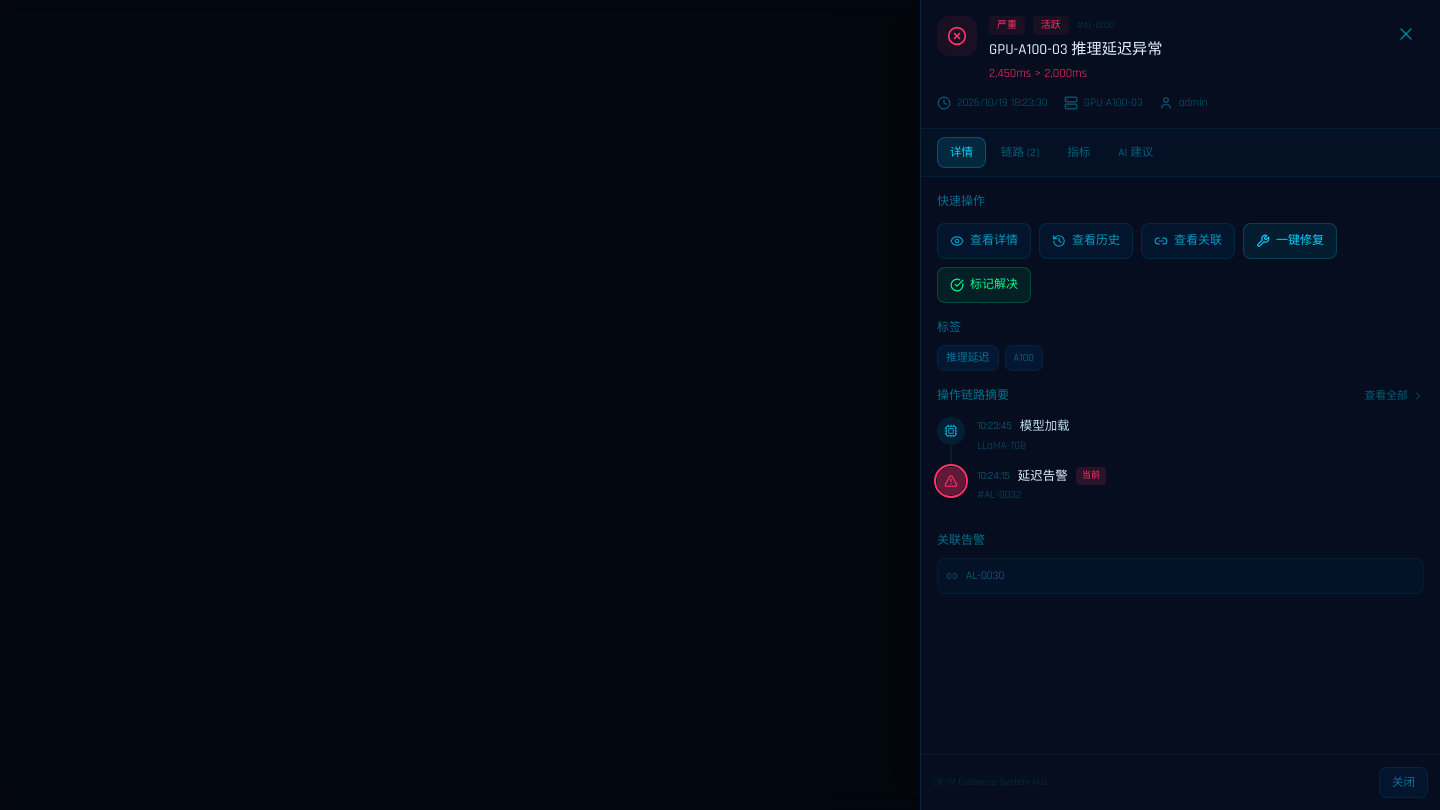
Test case: FollowUpDrawer › Tab 栏 › 切换到指标 tab 应显示关联指标
Click the button "指标" at (1079, 152), box [1054,137,1103,168]
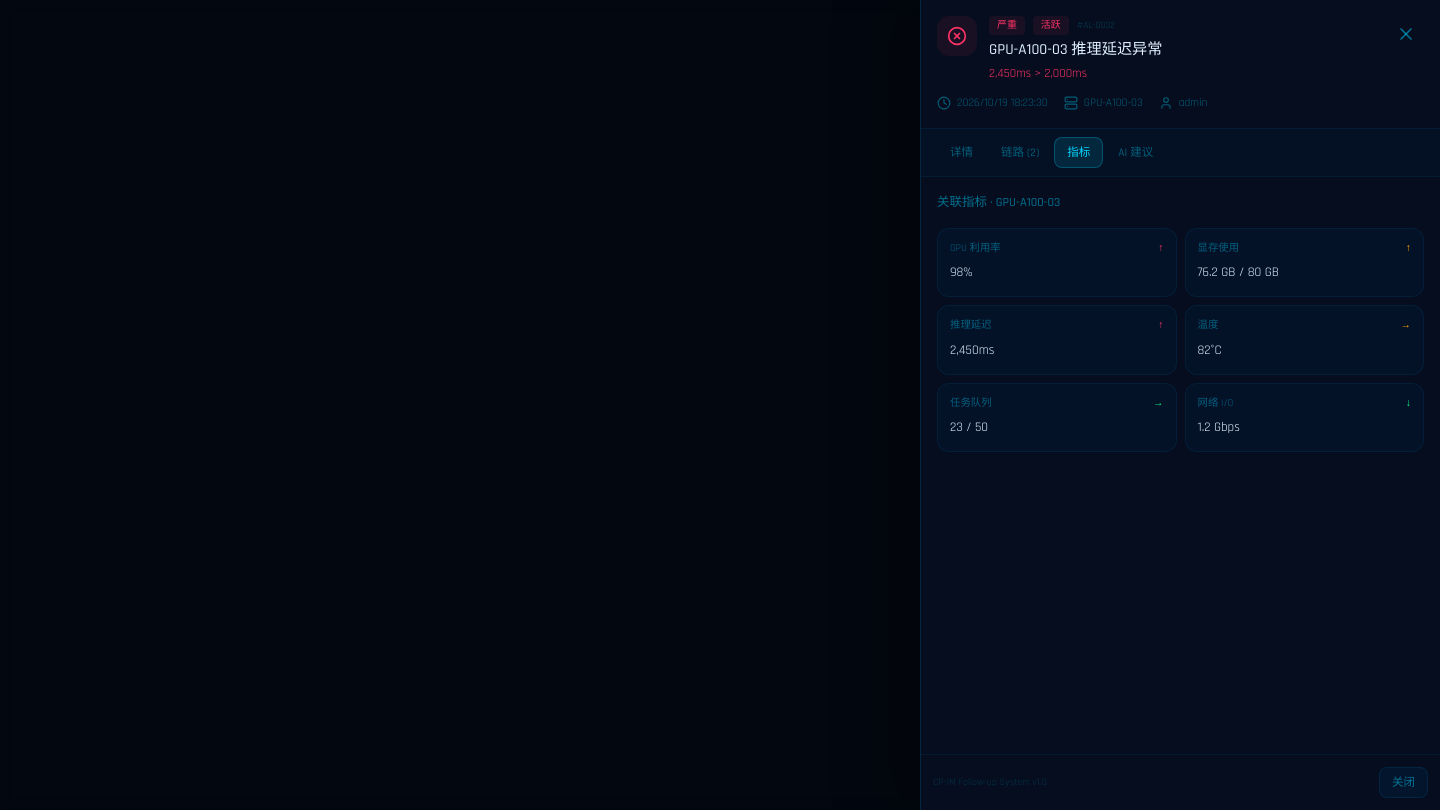
Check: the heading "关联指标 · GPU-A100-03" is shown, box [937,194,1060,210]
Check: the text "GPU 利用率" is shown, box [950,241,1001,256]
